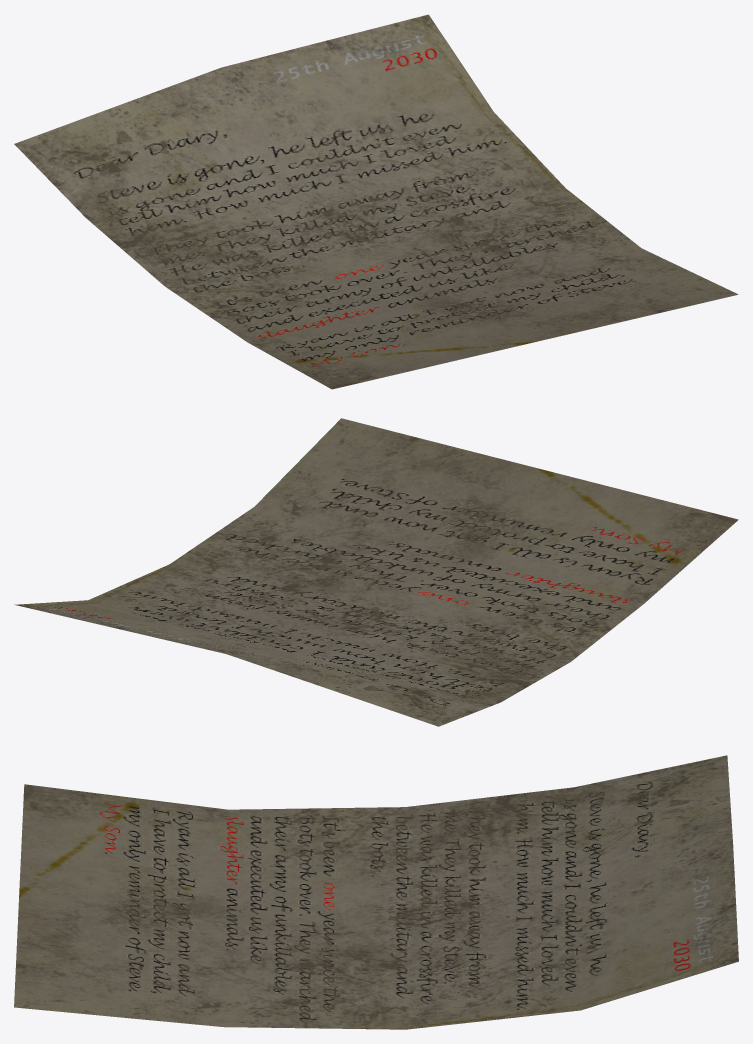
File: Note3.FBX
3 views of the same model, one above another, from view 1: azimuth 30°, elevation 25°; view 2: azimuth 150°, elevation 25°; view 3: azimuth 270°, elevation 25° (orthographic). The views are drawn at different scales.
Visible parts, largest first — view 1: Note3; view 2: Note3; view 3: Note3.
Part boxes in pixels (x1,y1,x2,y2): Note3: [14, 14, 738, 389]; Note3: [14, 418, 738, 726]; Note3: [14, 755, 738, 1029].
Bounding box in the file's own units: 29.32 × 4.3 × 38.57.
